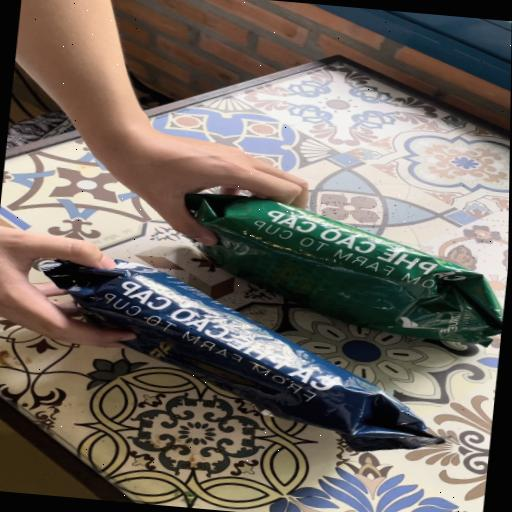cafe_hat: (42, 259, 440, 451)
cafe_xay: (402, 317, 419, 328)
